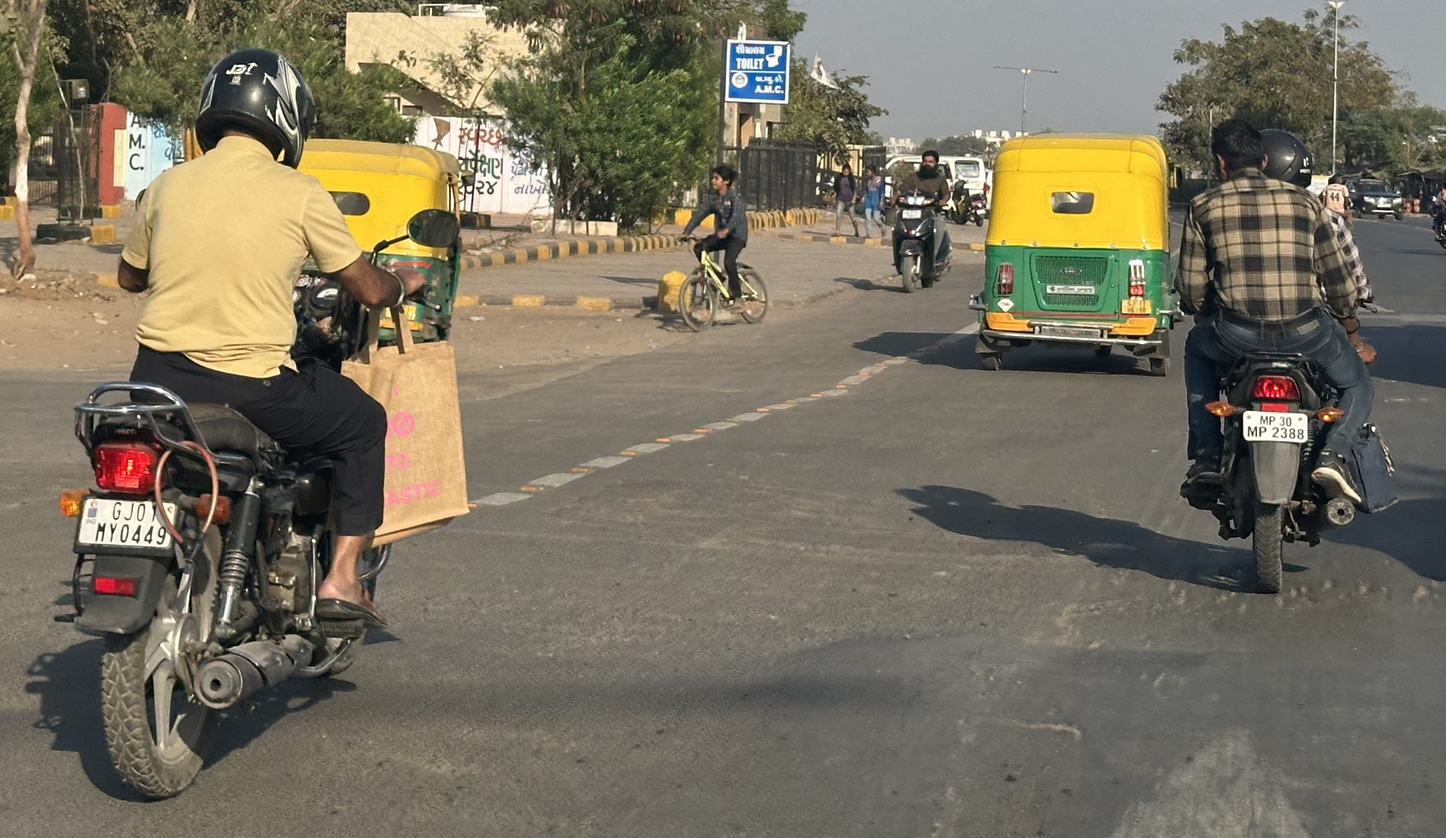BikeWithRider: (40, 37, 471, 795), (1159, 97, 1409, 619), (866, 131, 983, 304)
Helmet: (188, 32, 330, 187), (1256, 120, 1324, 187)
NoHelmet: (1202, 111, 1281, 193), (906, 142, 947, 179)
